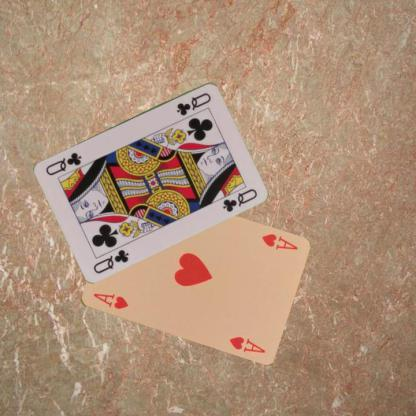Ah: (258, 231, 299, 251), (90, 290, 130, 310)
Qc: (90, 247, 130, 274), (174, 90, 213, 116)
